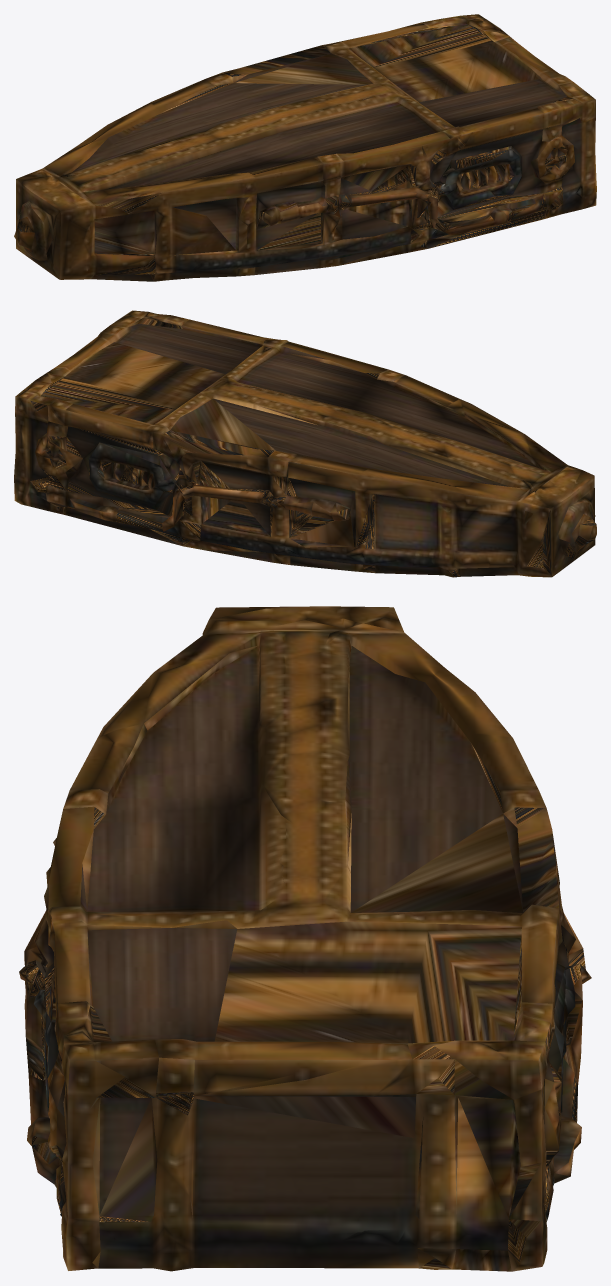
File: stern_counter_v2.glb
3 renders of one model, top to bottom at view 1: azimuth 30°, elevation 25°; view 2: azimuth 150°, elevation 25°; view 3: azimuth 270°, elevation 25°, orthographic. The views are drawn at different scales.
Parts seen in each view (by area): view 1: mesh_node; view 2: mesh_node; view 3: mesh_node.
Part boxes in pixels (x1=…): mesh_node: x1=14, y1=14, x2=596, y2=281; mesh_node: x1=14, y1=310, x2=596, y2=577; mesh_node: x1=19, y1=606, x2=591, y2=1271.
Size of the model in its own units: 1.89 by 0.4006 by 0.8979.
Materials: 1 (1 with a texture image).
